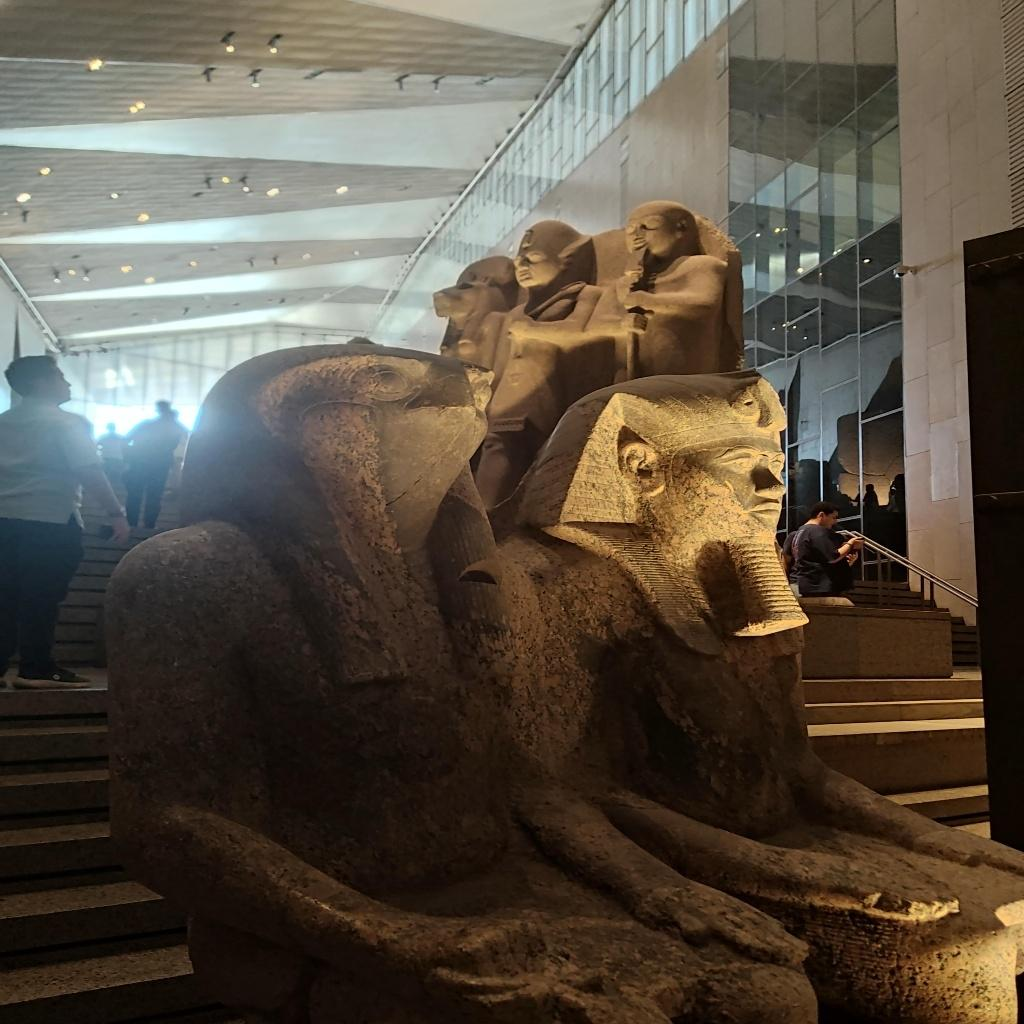Statue of Amenhotep III and God Re-Horakhty: (123, 335, 884, 997)
